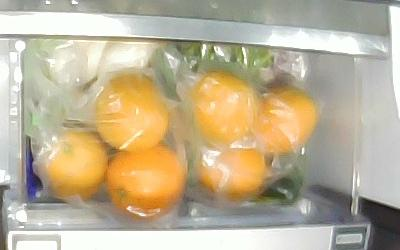orange_vinyl: (106, 145, 184, 219), (94, 77, 168, 149), (190, 71, 255, 143), (45, 130, 107, 198), (195, 138, 265, 198), (252, 88, 316, 151)
